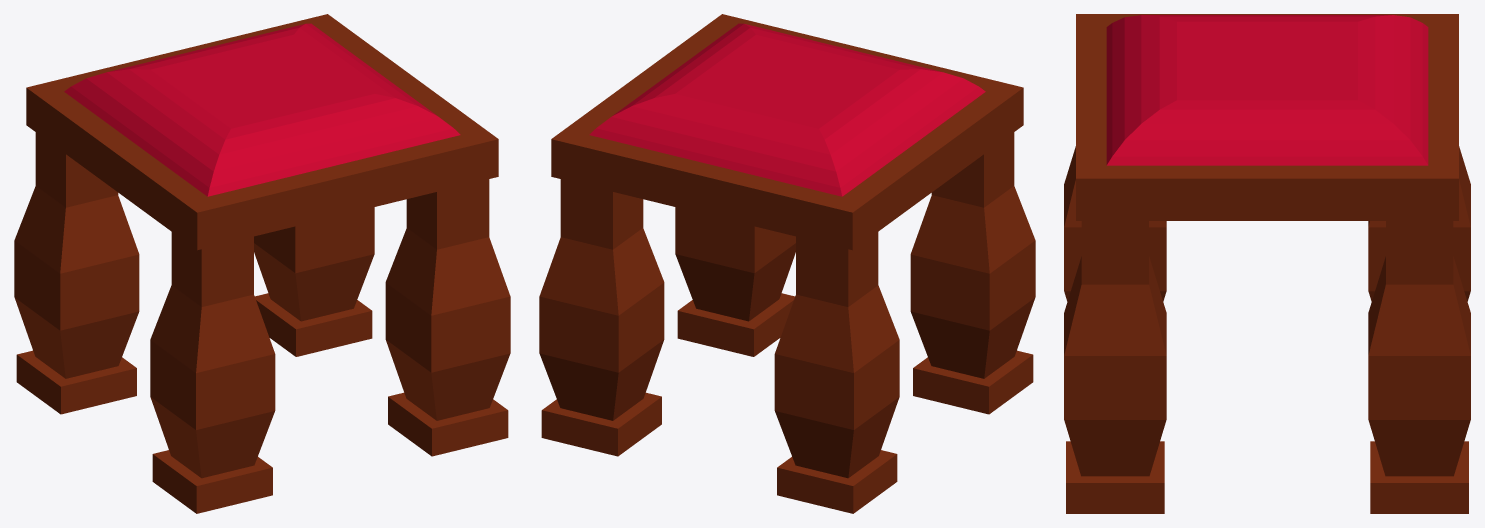
File: Chair_2.fbx
3 renders of one model, left to right at view 1: azimuth 30°, elevation 25°; view 2: azimuth 150°, elevation 25°; view 3: azimuth 270°, elevation 25°, orthographic. The views are drawn at different scales.
Parts seen in each view (by area): view 1: Cher; view 2: Cher; view 3: Cher.
Part boxes in pixels (x1,y1,x2,y2): Cher: (14, 14, 510, 513); Cher: (539, 14, 1035, 513); Cher: (1064, 14, 1470, 513).
Bounding box in the file's own units: 57.75 × 57.63 × 57.75.
